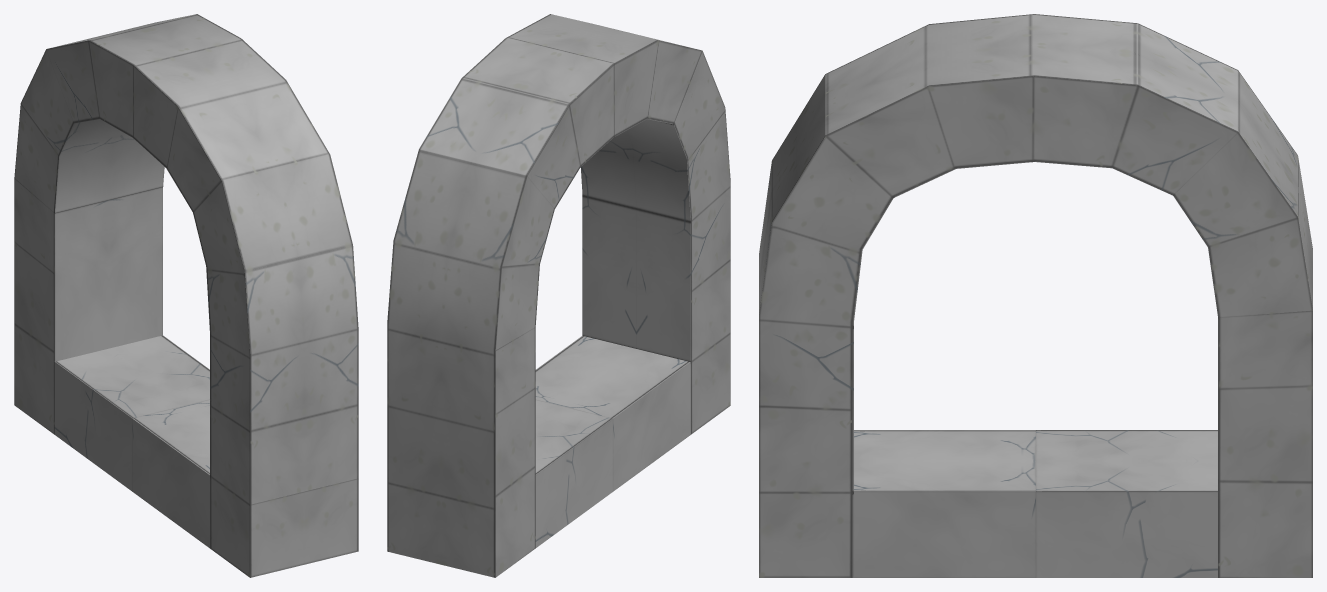
Rendered from Trim_Stone_SmallArk01.fbx.
The picture shows the model from 3 angles, left to right: view 1: azimuth 30°, elevation 25°; view 2: azimuth 150°, elevation 25°; view 3: azimuth 270°, elevation 25°; orthographic projection. The views are drawn at different scales.
Visible parts, largest first — view 1: Trim_Stone_SmallArk01; view 2: Trim_Stone_SmallArk01; view 3: Trim_Stone_SmallArk01.
Part boxes in pixels (x1=…): Trim_Stone_SmallArk01: x1=14, y1=14, x2=358, y2=577; Trim_Stone_SmallArk01: x1=387, y1=14, x2=730, y2=577; Trim_Stone_SmallArk01: x1=759, y1=14, x2=1312, y2=577.
Bounding box in the file's own units: 53.07 × 200 × 200.
